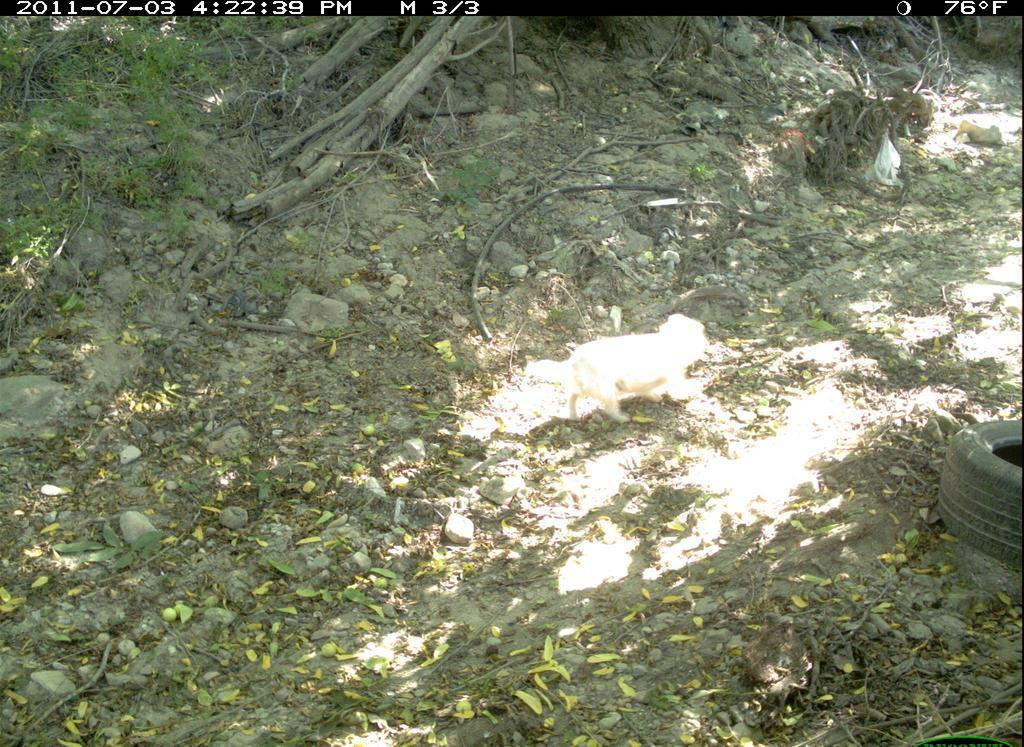dog: (524, 309, 717, 430)
